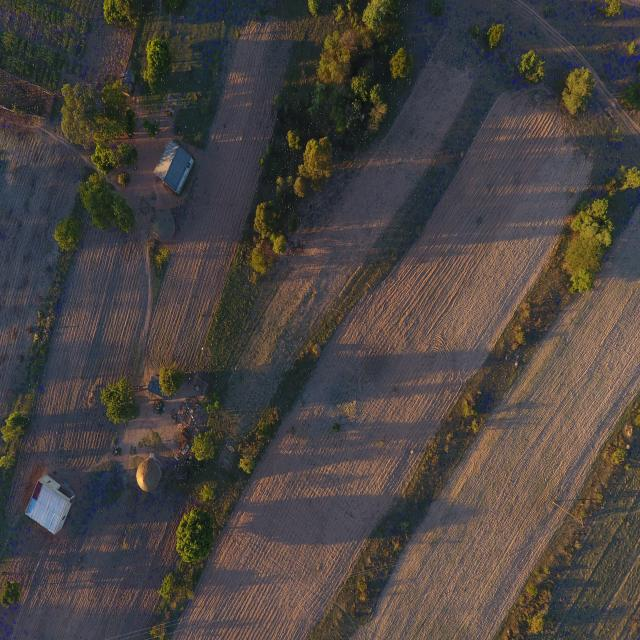boundaries: (242, 261, 378, 468)
